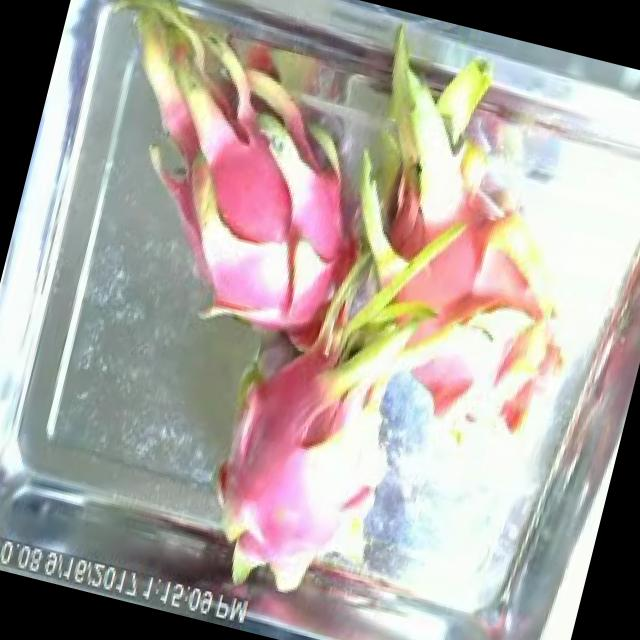Fruit: (188, 102, 330, 270)
